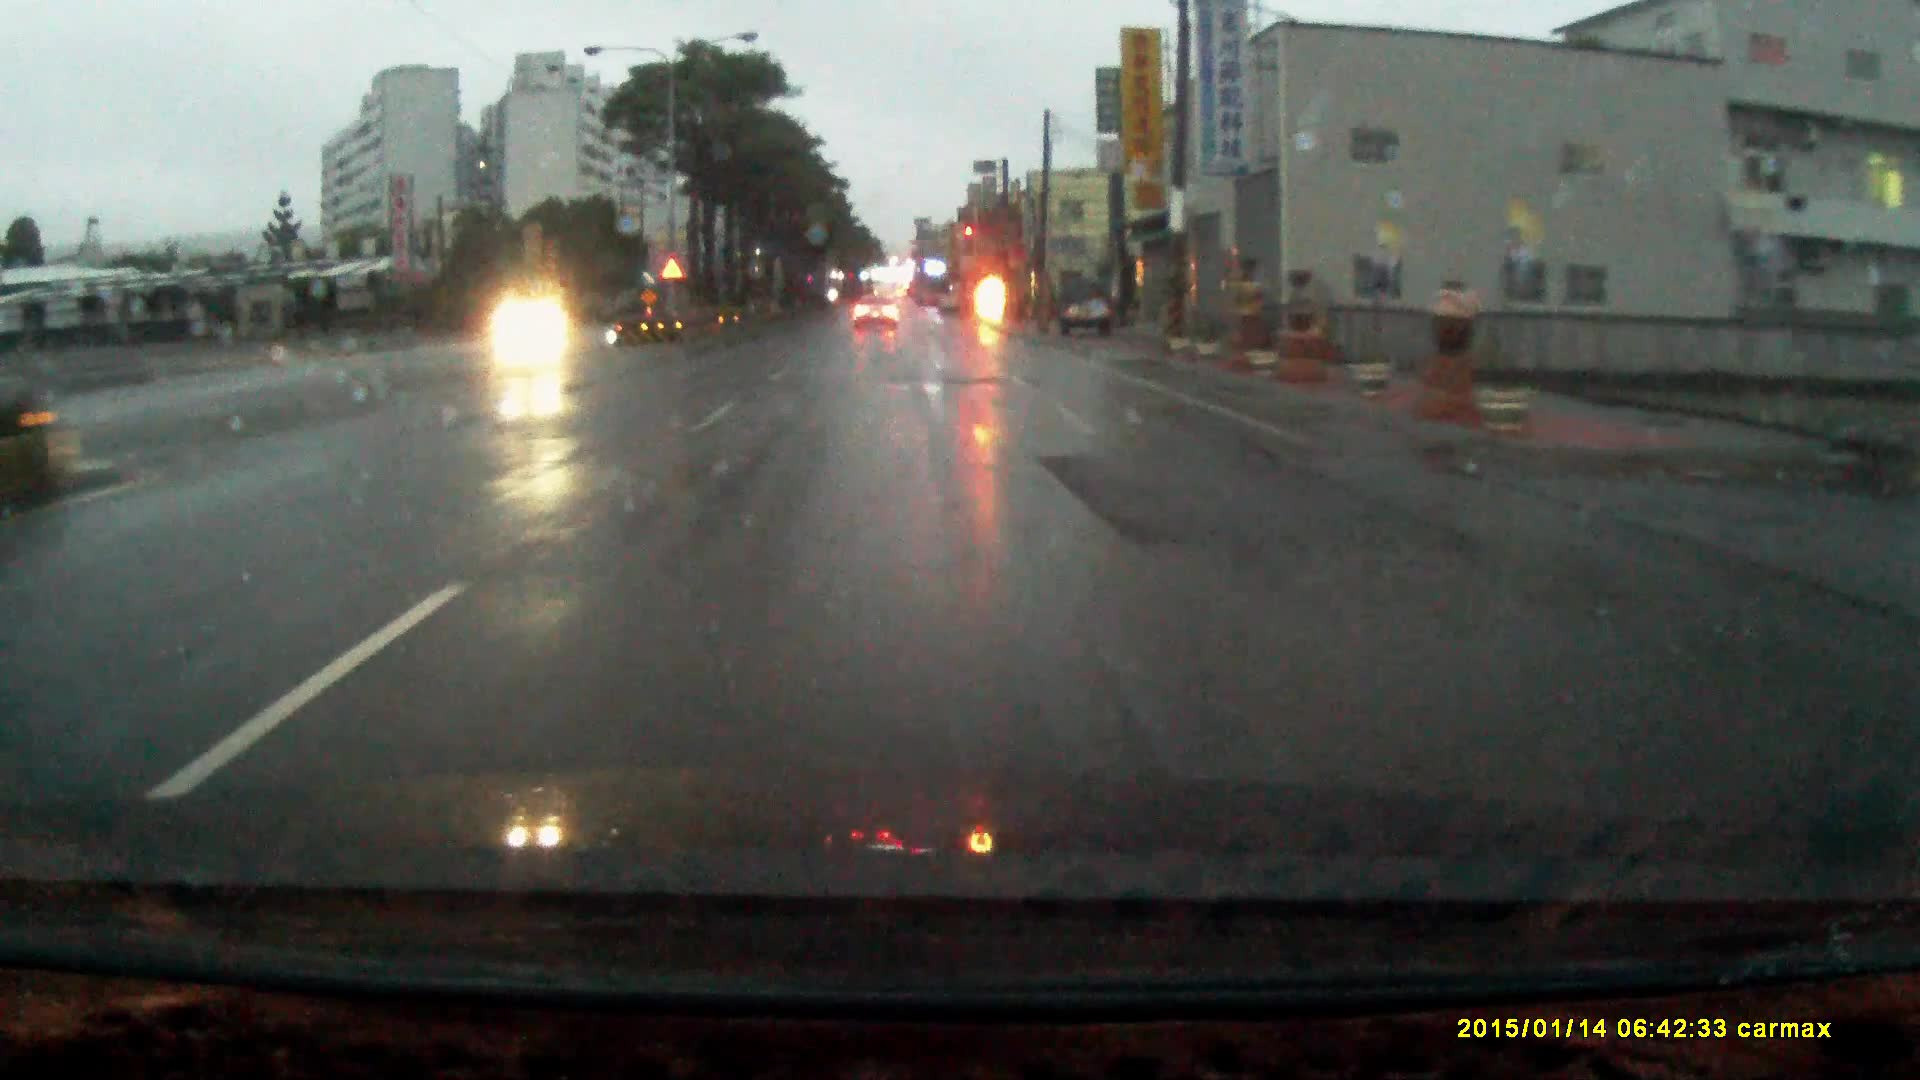vehicle: (1062, 286, 1120, 343), (855, 303, 902, 339)
